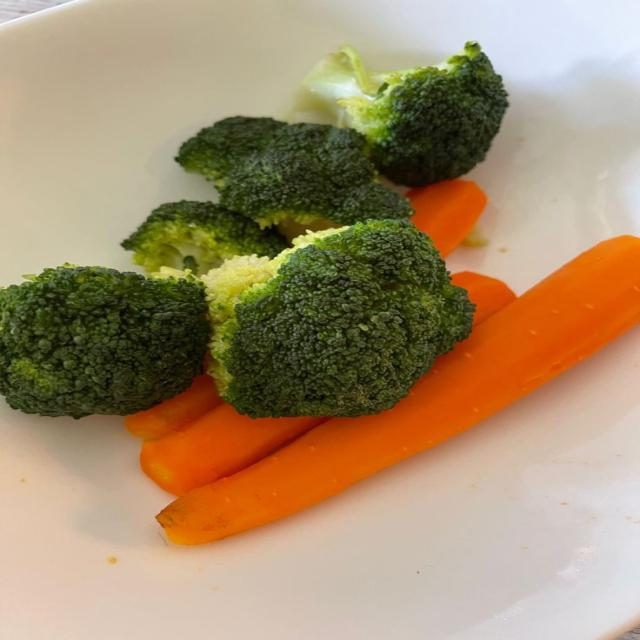broccoli: (202, 220, 473, 417), (0, 265, 209, 418), (294, 42, 507, 185), (179, 118, 412, 227), (121, 201, 286, 274), (176, 117, 286, 185)
carrot: (157, 236, 639, 543), (140, 404, 326, 495), (125, 374, 221, 440), (406, 179, 486, 256), (453, 271, 515, 327)
